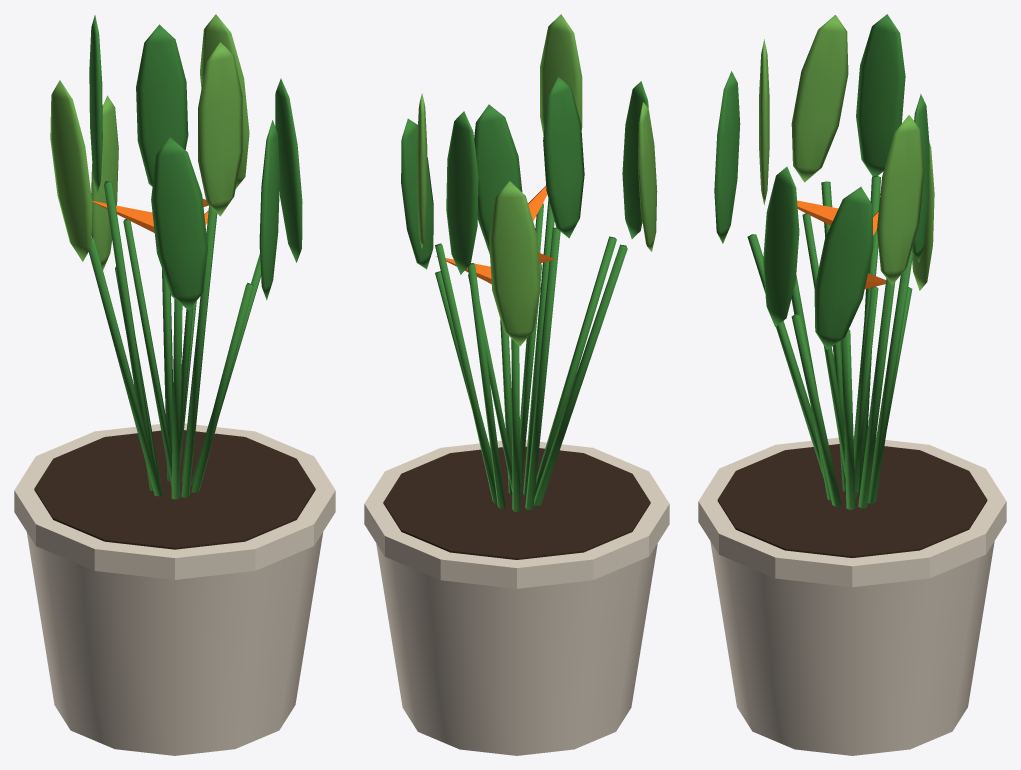
Rendered from plant_pot.glb.
The picture shows the model from 3 angles, left to right: view 1: azimuth 30°, elevation 25°; view 2: azimuth 150°, elevation 25°; view 3: azimuth 270°, elevation 25°; orthographic projection. The views are drawn at different scales.
Visible parts, largest first — view 1: plant_pot; view 2: plant_pot; view 3: plant_pot.
Part boxes in pixels (x1,y1,x2,y2): plant_pot: [14, 14, 335, 755]; plant_pot: [364, 14, 669, 755]; plant_pot: [698, 14, 1006, 755].
Bounding box in the file's own units: 0.8 × 1.91 × 0.8.
